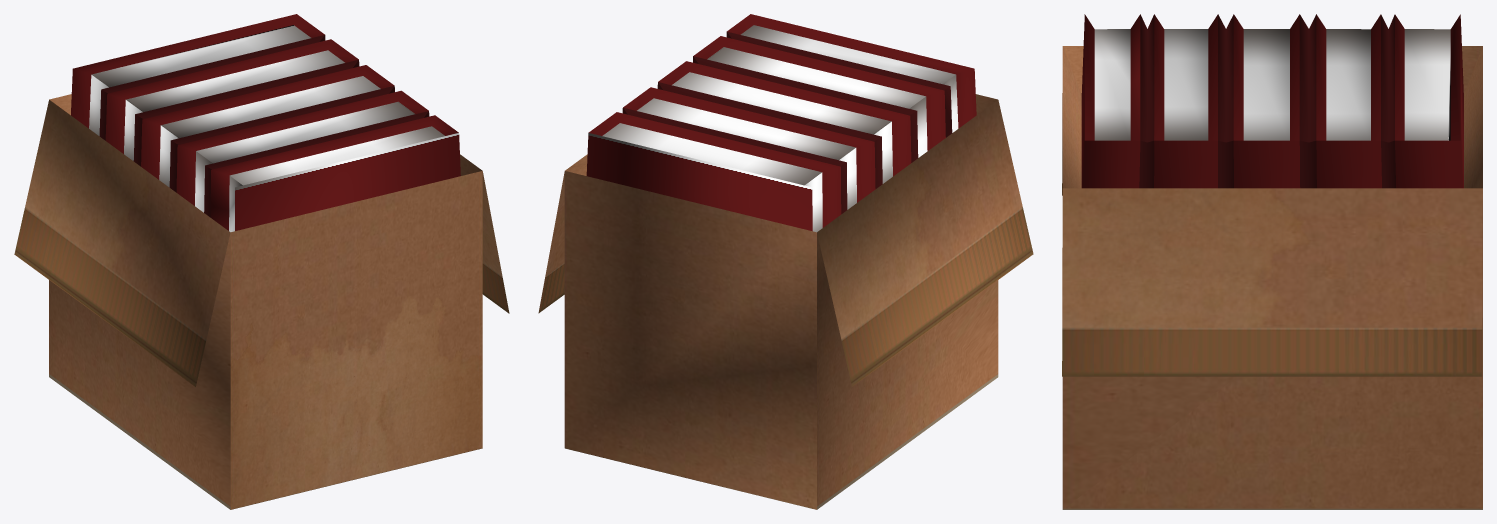
File: BookBoxTest.fbx
The picture shows the model from 3 angles, left to right: view 1: azimuth 30°, elevation 25°; view 2: azimuth 150°, elevation 25°; view 3: azimuth 270°, elevation 25°; orthographic projection. The views are drawn at different scales.
Parts seen in each view (by area): view 1: TestBox; view 2: TestBox; view 3: TestBox.
Boxes of the visible parts, bbox=[...] form: TestBox: bbox=[14, 14, 509, 509]; TestBox: bbox=[538, 14, 1033, 509]; TestBox: bbox=[1062, 14, 1482, 509].
Bounding box in the file's own units: 3.03 × 2.88 × 3.04.
